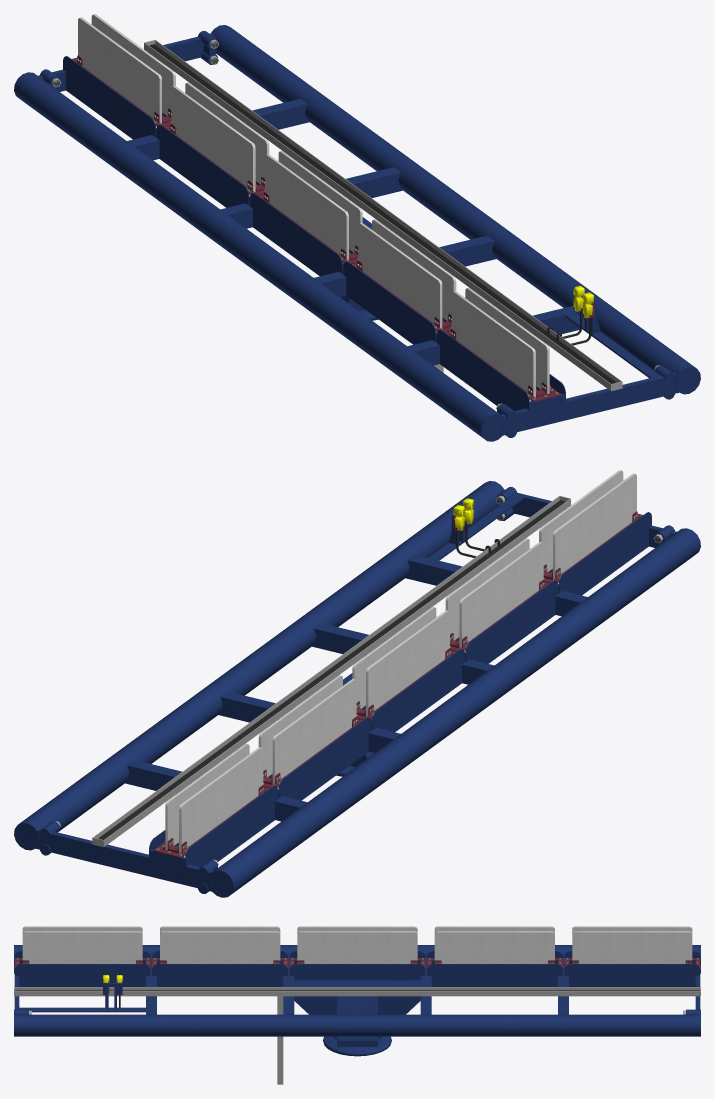
File: Trim Section (Fixed with start sensor).dae
3 views of the same model, one above another, from view 1: azimuth 30°, elevation 25°; view 2: azimuth 150°, elevation 25°; view 3: azimuth 270°, elevation 25° (orthographic). The views are drawn at different scales.
Visible parts, largest first — view 1: Mid_Detail (×17), Track (×9), High_Detail; view 2: Mid_Detail (×17), Track (×9), High_Detail; view 3: Mid_Detail (×17), Track (×7), High_Detail.
Boxes of the visible parts, x1=… form: Mid_Detail (×17): x1=63, y1=14, x2=622, y2=410; Track (×9): x1=14, y1=25, x2=700, y2=441; High_Detail: x1=565, y1=301, x2=660, y2=378; Mid_Detail (×17): x1=92, y1=470, x2=651, y2=866; Track (×9): x1=14, y1=481, x2=700, y2=897; High_Detail: x1=428, y1=495, x2=523, y2=560; Mid_Detail (×17): x1=14, y1=926, x2=700, y2=1084; Track (×7): x1=14, y1=945, x2=700, y2=1056; High_Detail: x1=19, y1=983, x2=145, y2=1012.
Size of the model in its own units: 53.48 by 197 by 40.52.
9 materials, 4 textured.
